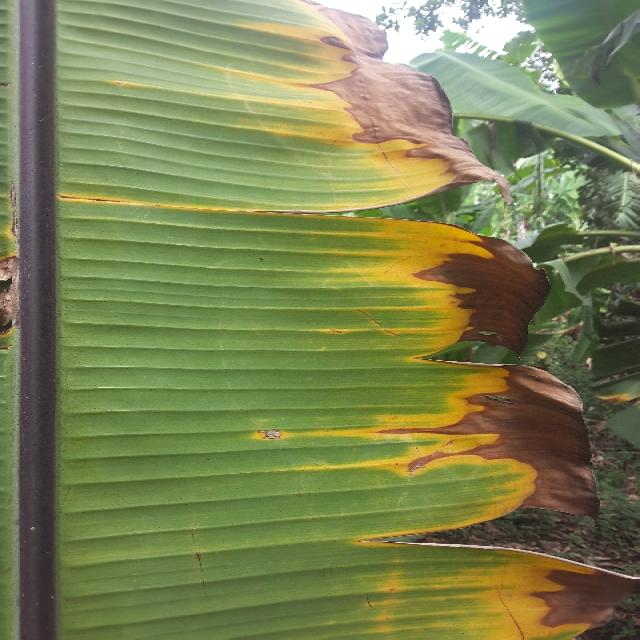Cordana: (31, 0, 612, 640)
